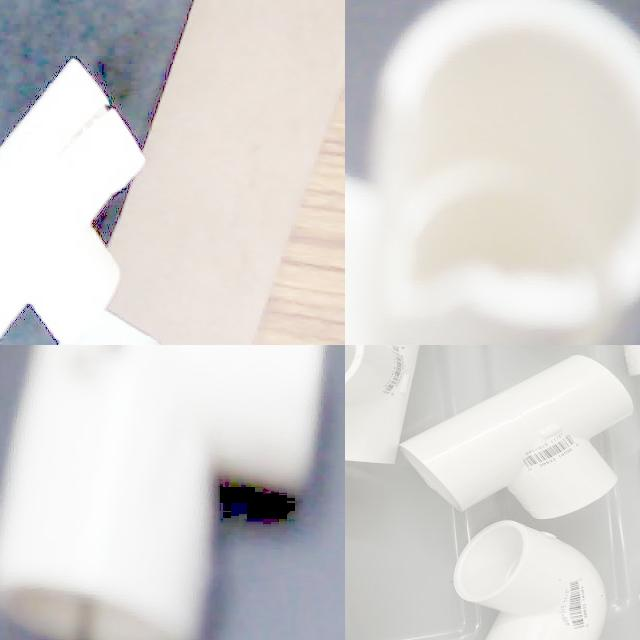Defective: (369, 109, 472, 338), (58, 345, 204, 410), (552, 255, 616, 345), (626, 77, 640, 328), (74, 89, 110, 180)
L Joint: (453, 522, 605, 640)
T Joint: (0, 345, 321, 640), (0, 60, 146, 345), (398, 355, 635, 520), (345, 345, 423, 468)
